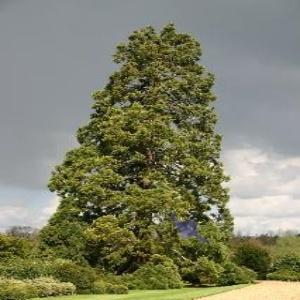drone: (154, 199, 218, 263)
